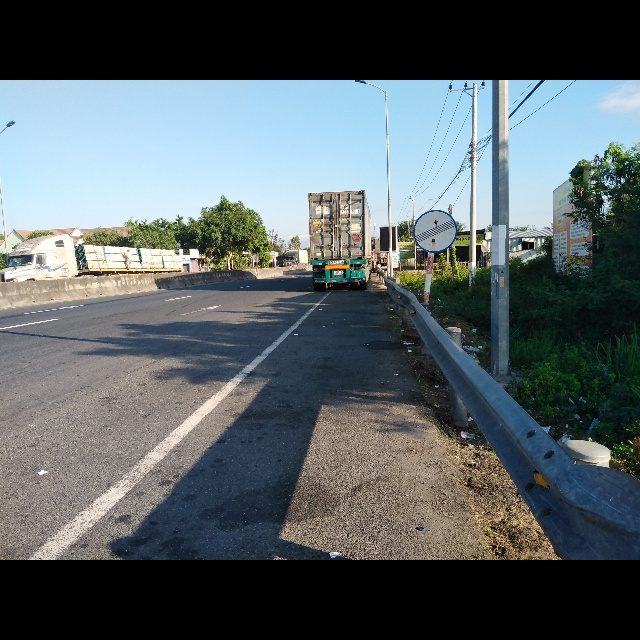Hết tất cả các lệnh cấm: (411, 209, 458, 255)
